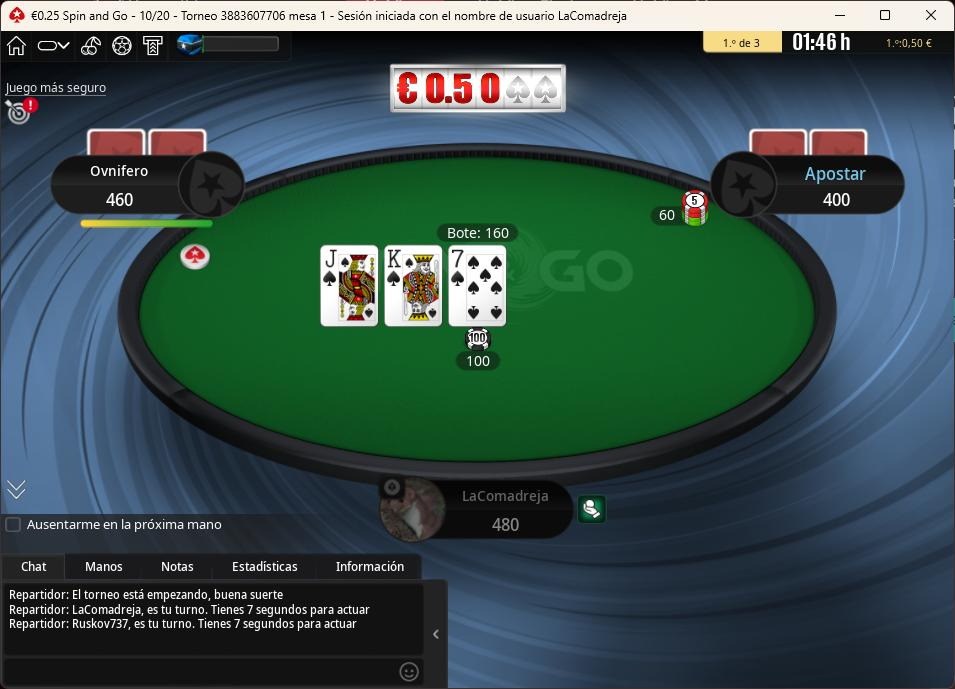Dealer: (180, 242, 214, 273)
HiddenCards: (83, 129, 213, 159), (745, 129, 868, 158)
Player: (49, 152, 245, 216), (717, 156, 910, 219)
PlayerBet: (642, 189, 714, 230)
PlayerChips: (99, 186, 141, 210), (822, 190, 857, 211)
Pot: (435, 222, 518, 241)
PrincipalPlayer: (372, 474, 570, 542)
PrincipalPlayerChips: (484, 512, 527, 537)
ShowedCards: (314, 242, 511, 330)
ShowedCards1: (319, 245, 384, 331)
ShowedCards2: (384, 246, 446, 330)
ShowedCards3: (447, 244, 509, 326)
SmallBigBlind: (128, 4, 180, 26)
TablePot: (451, 326, 512, 381)
